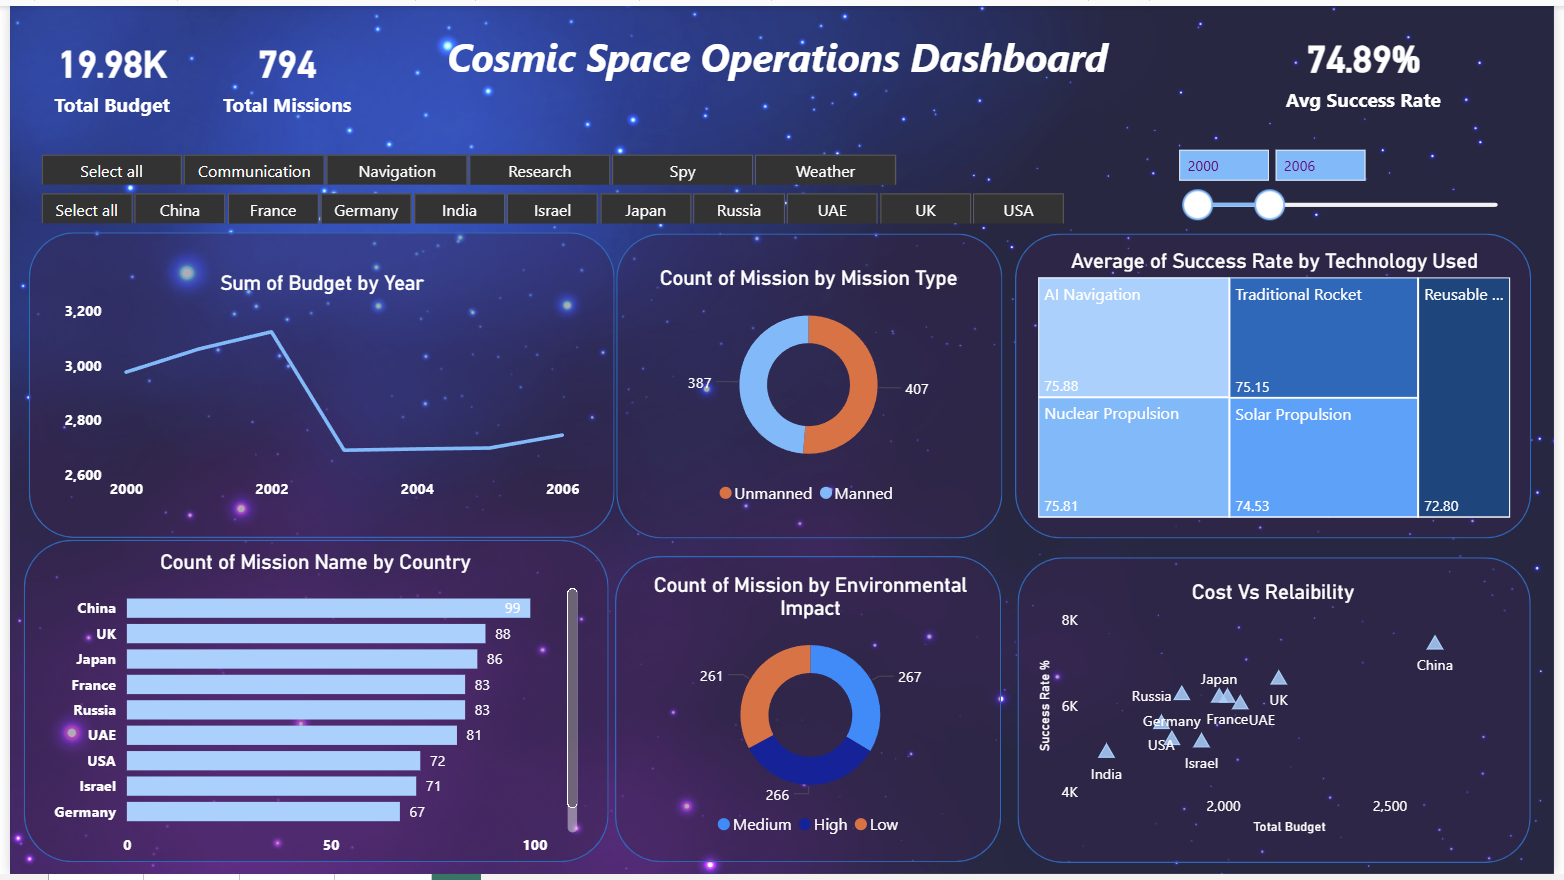

Layout of this report page (visuals, bound fields, positions):
{"tool":"powerbi","page":{"name":"Page 4","canvas":[1280,720],"ordinal":3},"visuals":[{"type":"shape","box":[11.4,442.5,485,267.4],"z":0},{"type":"shape","box":[502.6,188.6,320.2,252.9],"z":1000},{"type":"shape","box":[15.6,187.6,485.7,253.5],"z":2000},{"type":"shape","box":[501.6,456,320.2,253.9],"z":3000},{"type":"shape","box":[833.2,188.6,428,252.9],"z":4000},{"type":"lineChart","title":"Sum of Budget  by Year","fields":{"Category":["Global_Space.Year"],"Y":["Sum(Global_Space.Budget (in Billion $))"]},"box":[40.2,220,436.6,198.8],"z":5000},{"type":"donutChart","title":"Count of Mission by Mission Type","fields":{"Category":["Global_Space.Mission Type"],"Y":["CountNonNull(Global_Space.Mission Type)"]},"box":[508.8,215.5,306.7,207.3],"z":6000},{"type":"treemap","title":"Average of Success Rate by Technology Used","fields":{"Group":["Global_Space.Technology Used"],"Values":["Avg(Global_Space.Success Rate (%))"]},"box":[847.7,201,401,228],"z":7000},{"type":"clusteredBarChart","fields":{"Category":["Global_Space.Country"],"Y":["CountNonNull(Global_Space.Mission Name)"]},"box":[31.3,451.1,444.4,263.5],"z":8000},{"type":"donutChart","title":"Count of Mission by Environmental Impact","fields":{"Y":["CountNonNull(Global_Space.Mission Type)"],"Category":["Global_Space.Environmental Impact"]},"box":[505.7,469.4,316.1,228],"z":9000},{"type":"shape","box":[835.2,456.7,425.4,253.5],"z":10000},{"type":"card","fields":{"Values":["Global_Space.Total Budget"]},"box":[0,15.6,169.7,82.6],"z":11000},{"type":"card","fields":{"Values":["Global_Space.Total Missions"]},"box":[145.2,15.6,169.7,82.6],"z":12000},{"type":"card","fields":{"Values":["Global_Space.Avg Success Rate"]},"box":[936.9,15.6,169.7,82.6],"z":13000},{"type":"card","fields":{"Values":["Global_Space.% Manned"]},"box":[1090.9,15.6,169.7,82.6],"z":14000},{"type":"scatterChart","title":"Cost Vs Relaibility","fields":{"Category":["Global_Space.Country"],"X":["Global_Space.Total Budget"],"Y":["Sum(Global_Space.Success Rate (%))"]},"box":[847.7,475.6,399,215.5],"z":15000},{"type":"slicer","fields":{"Values":["Global_Space.Country"]},"box":[0,148.5,897.8,32.4],"z":16000},{"type":"slicer","fields":{"Values":["Global_Space.Year"]},"box":[957,108.3,298.1,80.4],"z":17000},{"type":"textbox","box":[314.9,15.6,613,72.6],"z":18000},{"type":"slicer","fields":{"Values":["Global_Space.Satellite Type"]},"box":[0,116.1,758.2,32.4],"z":19000}]}

Visuals, with their boxes in screenshot pixels (x1, y1, x2, y2), scaled from the page's 1280x720 canvas onto the 1564x880 screenshot:
shape: 14, 541, 607, 868
shape: 614, 231, 1005, 540
shape: 19, 229, 613, 539
shape: 613, 557, 1004, 868
shape: 1018, 231, 1541, 540
"Sum of Budget  by Year" lineChart: 49, 269, 583, 512
"Count of Mission by Mission Type" donutChart: 622, 263, 996, 517
"Average of Success Rate by Technology Used" treemap: 1036, 246, 1526, 524
clusteredBarChart - Global_Space.Country x CountNonNull(Global_Space.Mission Name): 38, 551, 581, 873
"Count of Mission by Environmental Impact" donutChart: 618, 574, 1004, 852
shape: 1021, 558, 1540, 868
card - Global_Space.Total Budget: 0, 19, 207, 120
card - Global_Space.Total Missions: 177, 19, 385, 120
card - Global_Space.Avg Success Rate: 1145, 19, 1352, 120
card - Global_Space.% Manned: 1333, 19, 1540, 120
"Cost Vs Relaibility" scatterChart: 1036, 581, 1523, 845
slicer - Global_Space.Country: 0, 182, 1097, 221
slicer - Global_Space.Year: 1169, 132, 1534, 231
textbox: 385, 19, 1134, 108
slicer - Global_Space.Satellite Type: 0, 142, 926, 182
